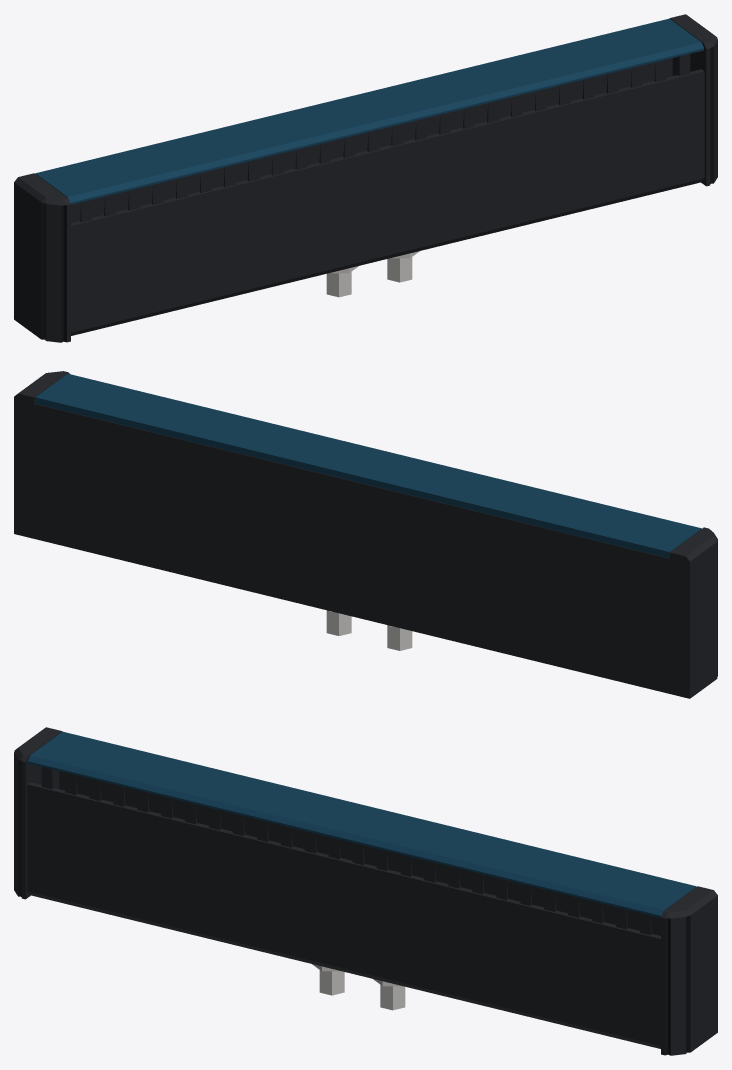
File: coast-to-coast-overflow-2f9bd9.glb
The picture shows the model from 3 angles, top to bottom: view 1: azimuth 30°, elevation 25°; view 2: azimuth 150°, elevation 25°; view 3: azimuth 330°, elevation 25°; orthographic projection.
Parts seen in each view (by area): view 1: overflow-box, lid-panel; view 2: overflow-box, lid-panel; view 3: overflow-box, lid-panel.
Boxes of the visible parts, box(x1,y1,x2,y2) form: overflow-box: box(14, 14, 717, 342); lid-panel: box(35, 18, 703, 204); overflow-box: box(14, 371, 717, 698); lid-panel: box(35, 373, 701, 558); overflow-box: box(14, 727, 717, 1055); lid-panel: box(28, 731, 696, 917).
Bounding box in the file's own units: 1 × 0.248 × 0.094.
